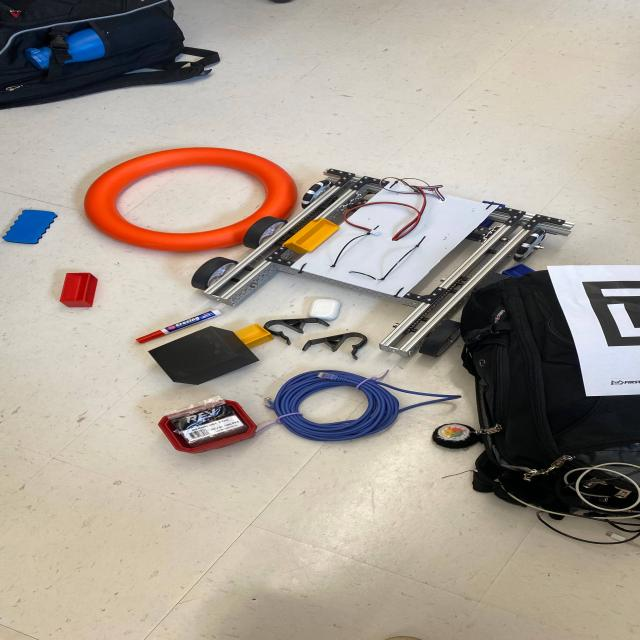blue-specimen: (501, 264, 535, 277)
red-specimen: (60, 273, 97, 307)
yellow-specimen: (283, 218, 339, 253), (234, 324, 274, 349)
